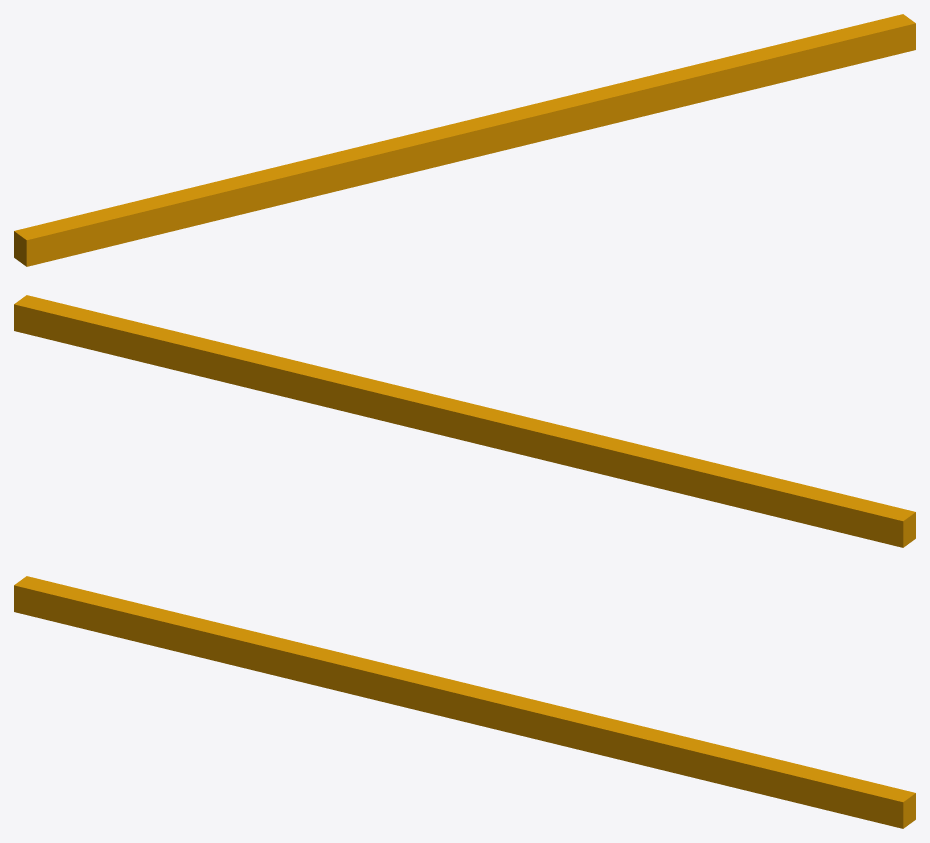
Rendered from L_Rope_A_01_B.fbx.
3 renders of one model, top to bottom at view 1: azimuth 30°, elevation 25°; view 2: azimuth 150°, elevation 25°; view 3: azimuth 330°, elevation 25°, orthographic.
Parts seen in each view (by area): view 1: L_Rope_A_01_B; view 2: L_Rope_A_01_B; view 3: L_Rope_A_01_B.
Part boxes in pixels (bbox=[...]): L_Rope_A_01_B: bbox=[14, 14, 915, 266]; L_Rope_A_01_B: bbox=[14, 295, 915, 547]; L_Rope_A_01_B: bbox=[14, 576, 915, 828].
Bounding box in the file's own units: 291 × 8.33 × 7.22.
